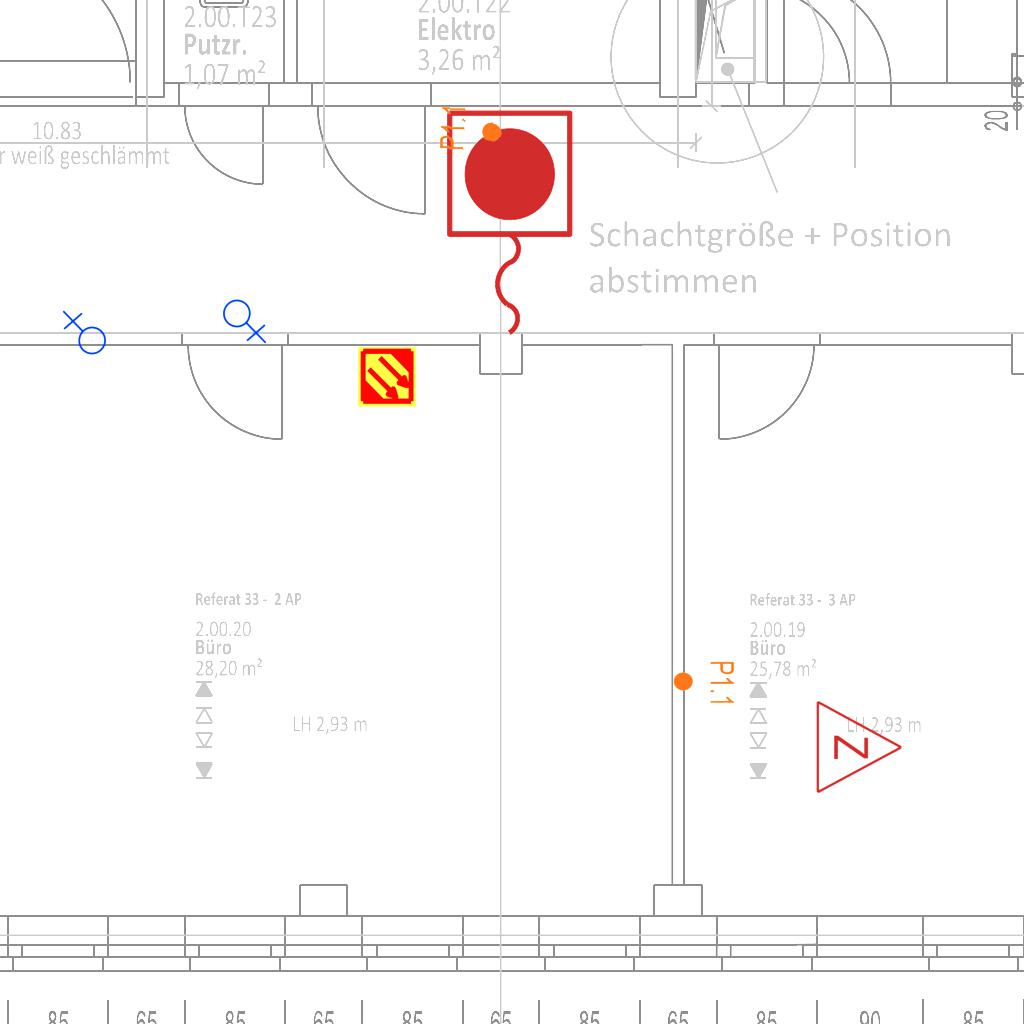ASR_Ansaugrauchmelder: (356, 346, 418, 408)
Downlight_LED_Einbauleuchten_Flur: (437, 103, 505, 155), (672, 660, 736, 706)
Elektroanschluss_allgemein_230V_Geraeteanschlussdose_230V: (60, 310, 107, 359), (222, 295, 269, 344)
Zimmersignalleuchte: (809, 697, 909, 795)
Zugtaster: (436, 102, 580, 346)
